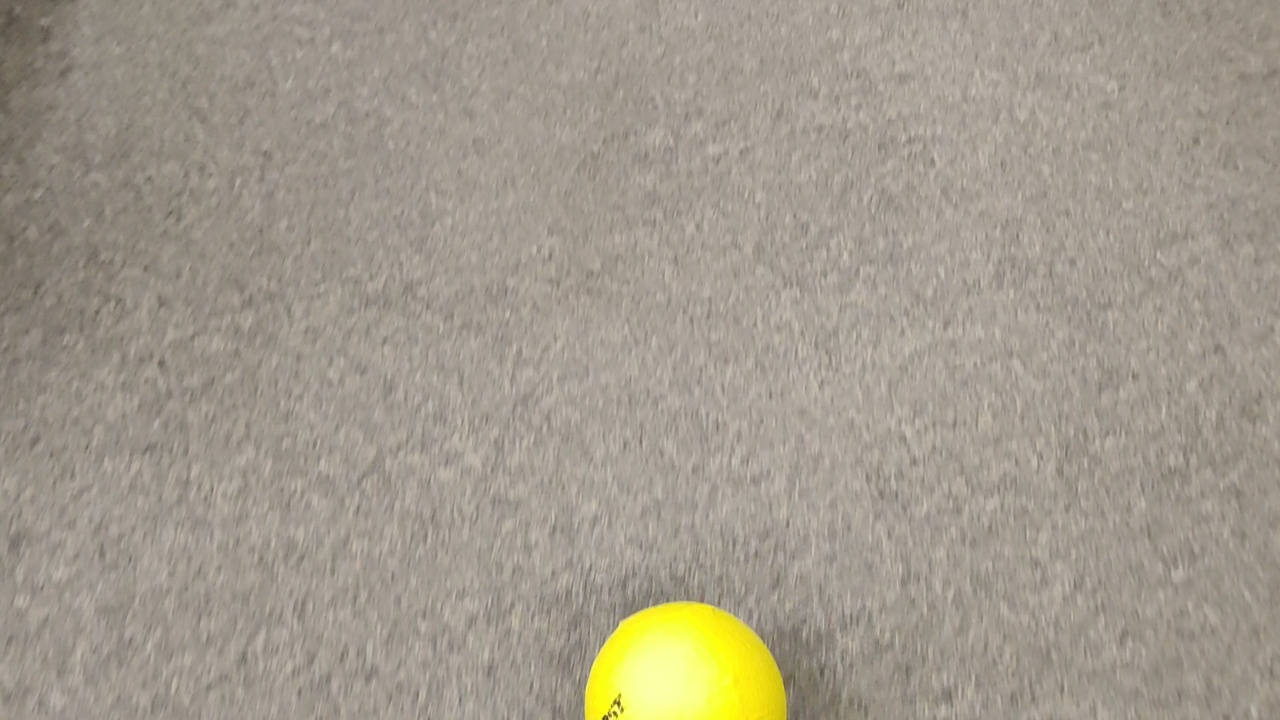Ball: (583, 600, 789, 720)
